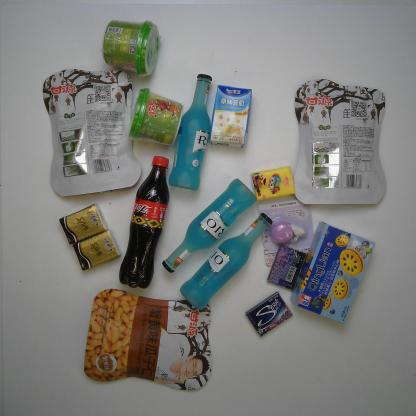Alcohol: (178, 211, 274, 311), (161, 177, 258, 274), (166, 72, 212, 191)
Dessert: (290, 222, 376, 324)
Dried Fruit: (81, 288, 214, 392), (41, 67, 143, 199), (292, 76, 386, 208)
Drink: (119, 156, 171, 290)
Gum: (246, 291, 293, 339), (266, 245, 308, 290)
Instant Drink: (127, 88, 184, 148), (102, 20, 160, 76)
Milk: (208, 84, 252, 148)
Stationery: (259, 197, 318, 270)
Tissue: (72, 230, 122, 272), (57, 203, 107, 245), (249, 164, 296, 202)
